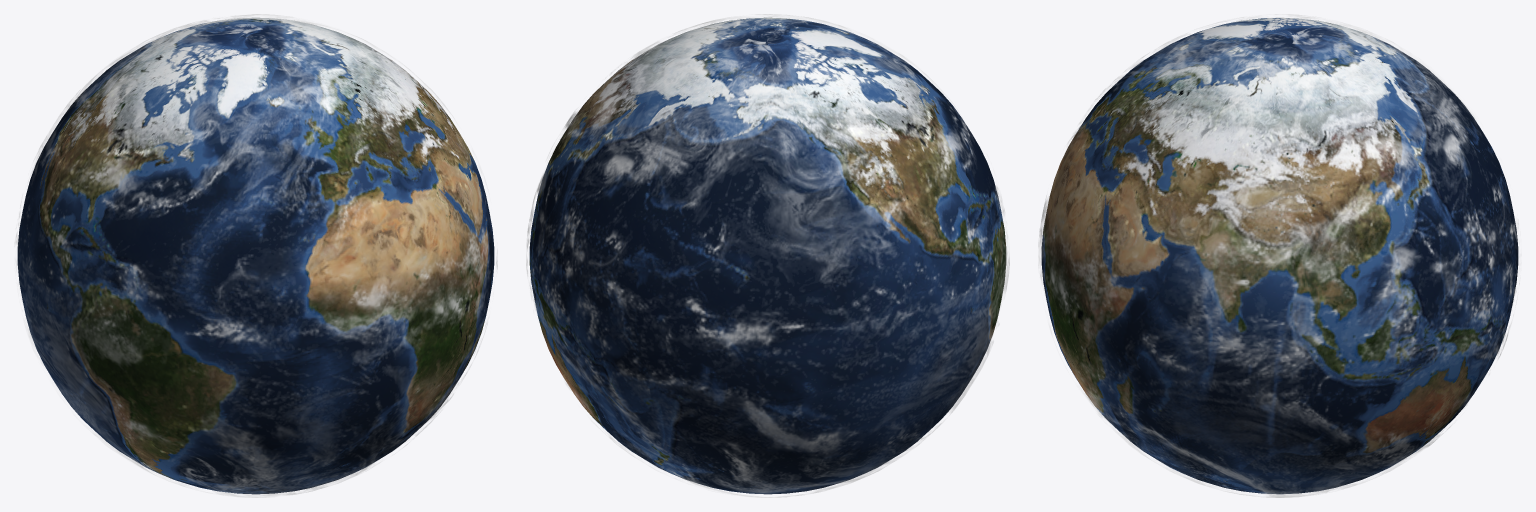
File: earth.glb
3 views of the same model, side by side, from view 1: azimuth 30°, elevation 25°; view 2: azimuth 150°, elevation 25°; view 3: azimuth 270°, elevation 25° (orthographic).
Visible parts, largest first — view 1: Sphere_4, Sphere.001_6; view 2: Sphere_4, Sphere.001_6; view 3: Sphere_4, Sphere.001_6.
Boxes of the visible parts, left/top/right/bottom form: Sphere_4: left=17, top=17, right=494, bottom=494; Sphere.001_6: left=15, top=14, right=497, bottom=497; Sphere_4: left=529, top=17, right=1006, bottom=494; Sphere.001_6: left=526, top=14, right=1009, bottom=497; Sphere_4: left=1041, top=17, right=1518, bottom=494; Sphere.001_6: left=1038, top=14, right=1519, bottom=497.
Size of the model in its own units: 2.03 by 2.03 by 2.03.
2 materials, 2 textured.
